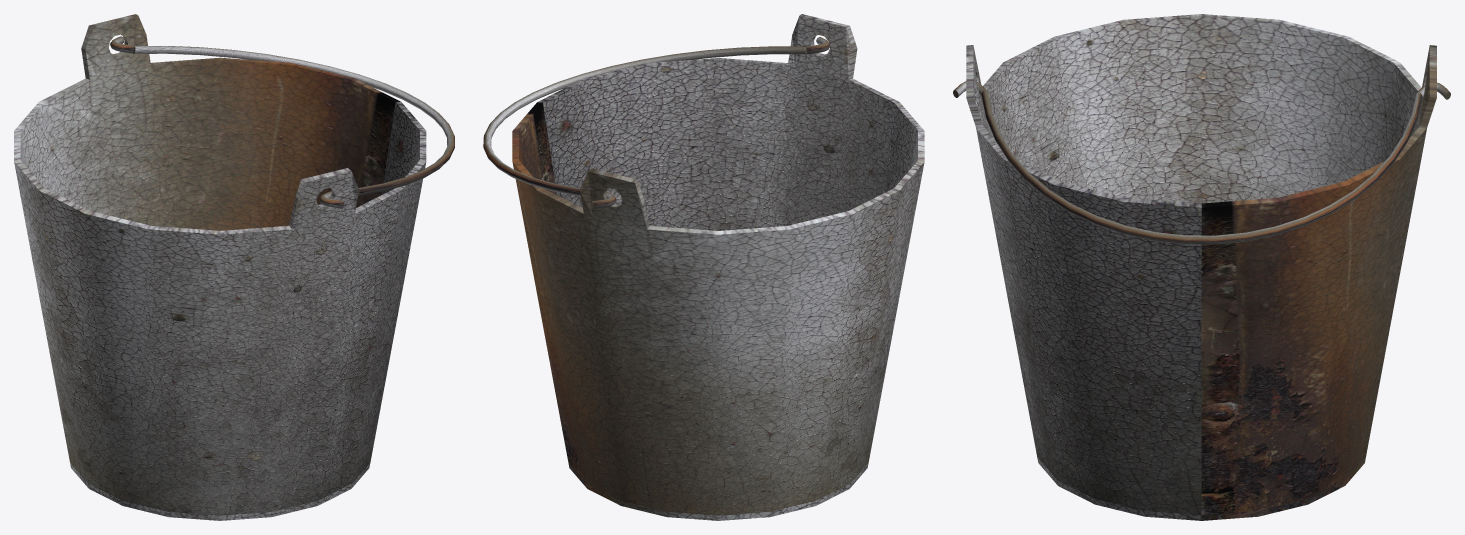
Rendered from Bucket.FBX.
3 renders of one model, left to right at view 1: azimuth 30°, elevation 25°; view 2: azimuth 150°, elevation 25°; view 3: azimuth 270°, elevation 25°, orthographic. The views are drawn at different scales.
Parts seen in each view (by area): view 1: Cylinder001, Line001; view 2: Cylinder001, Line001; view 3: Cylinder001, Line001.
Boxes of the visible parts, x1,y1,x2,y2 form: Cylinder001: (14, 14, 426, 520); Line001: (110, 36, 454, 208); Cylinder001: (512, 14, 924, 520); Line001: (483, 37, 829, 208); Cylinder001: (966, 14, 1436, 520); Line001: (953, 81, 1450, 244).
Size of the model in its own units: 68.03 by 59.31 by 68.01.
1 material, 1 textured.
